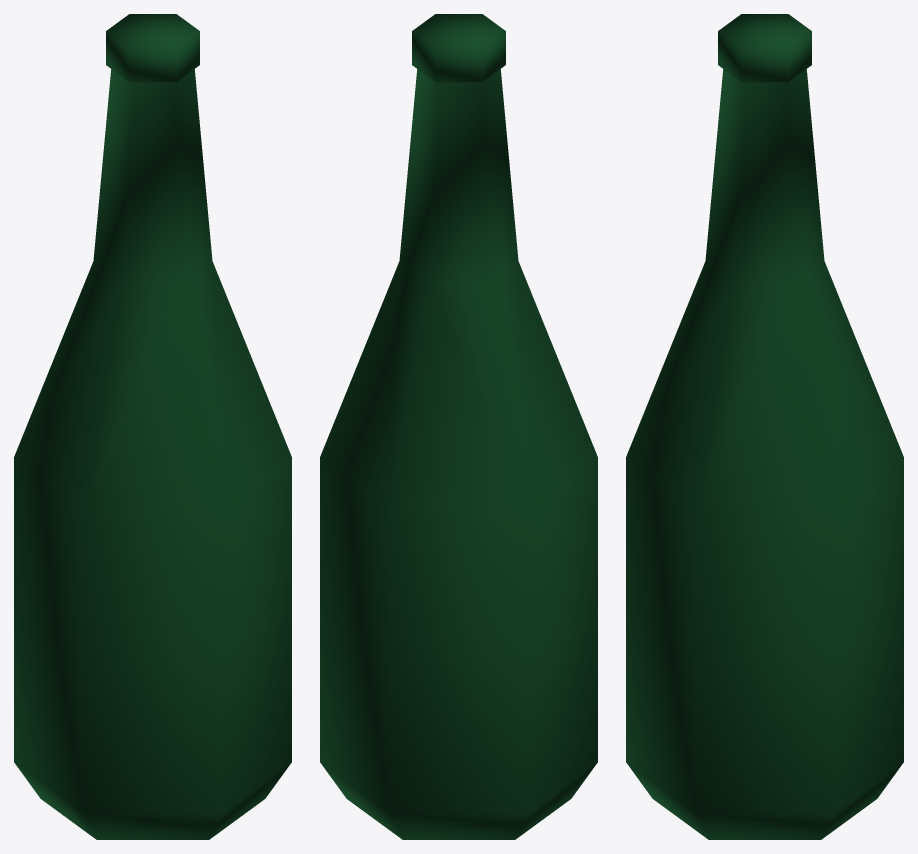
Rendered from wino_m_ruski_szampan.glb.
3 renders of one model, left to right at view 1: azimuth 30°, elevation 25°; view 2: azimuth 150°, elevation 25°; view 3: azimuth 270°, elevation 25°, orthographic.
Visible parts, largest first — view 1: wino_m_ruski_szampan; view 2: wino_m_ruski_szampan; view 3: wino_m_ruski_szampan.
Part boxes in pixels (x1,y1,x2,y2): wino_m_ruski_szampan: [14, 14, 291, 839]; wino_m_ruski_szampan: [320, 14, 597, 839]; wino_m_ruski_szampan: [626, 14, 903, 839].
Size of the model in its own units: 0.1051 by 0.3702 by 0.1214.
